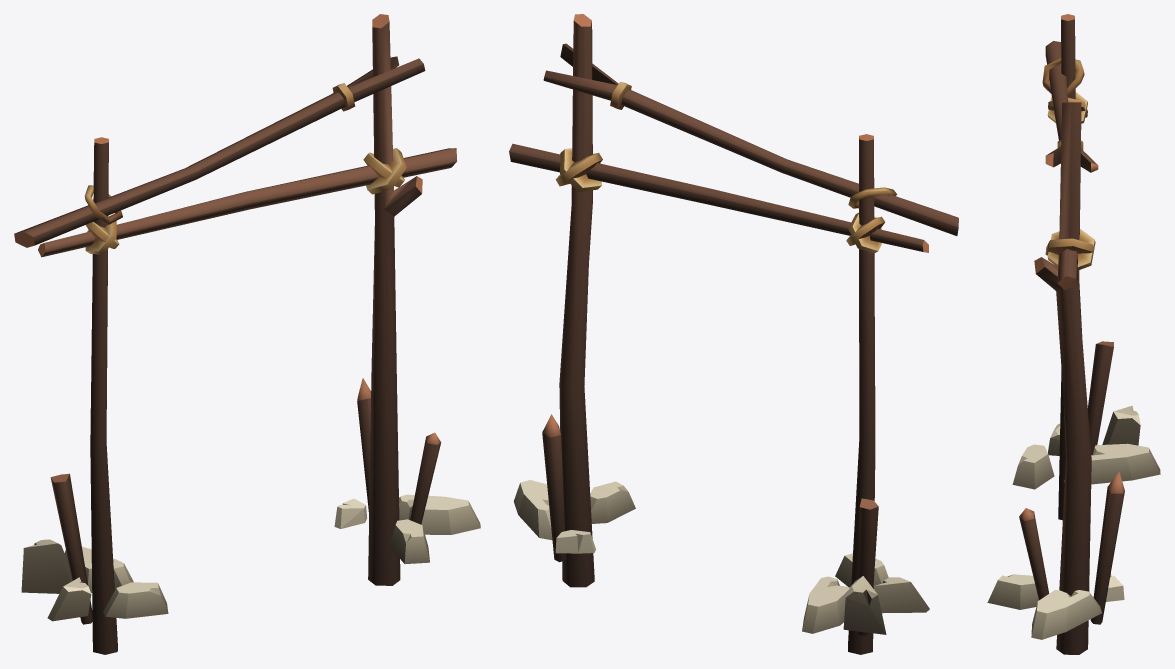
Rendered from Gate_1B.fbx.
3 views of the same model, side by side, from view 1: azimuth 30°, elevation 25°; view 2: azimuth 150°, elevation 25°; view 3: azimuth 270°, elevation 25° (orthographic). The views are drawn at different scales.
Parts seen in each view (by area): view 1: Gate_1B; view 2: Gate_1B; view 3: Gate_1B.
Part boxes in pixels (box(x1,y1,x2,y2)): Gate_1B: box(14, 14, 480, 654); Gate_1B: box(509, 14, 958, 654); Gate_1B: box(987, 14, 1160, 654).
Size of the model in its own units: 315 by 373 by 107.
